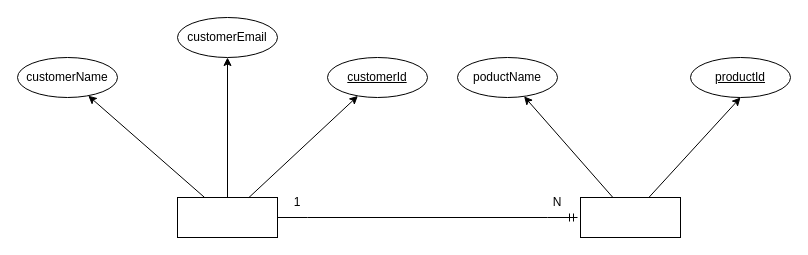
Image size: 808x255. Some labels were removed from this diagram. The shapes that lost their labels are listed below. From the top down, each one's centre as x and y in pixels, then its label:
At point (227, 217): "Customer".
At point (630, 217): "Product".
